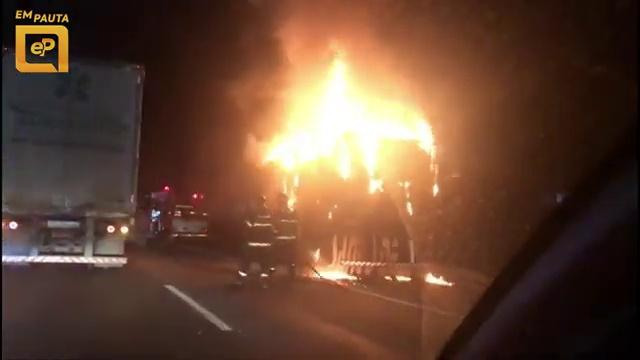fire: (282, 75, 415, 165)
